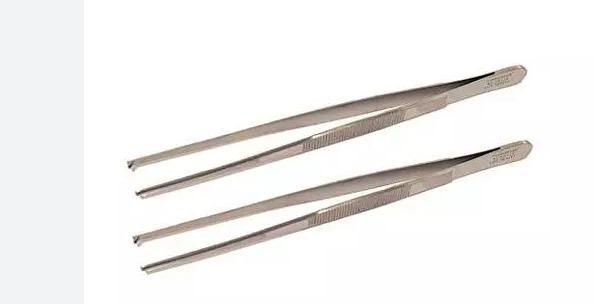Dissecting Forceps Tooth: (125, 55, 531, 200), (133, 135, 536, 276)
